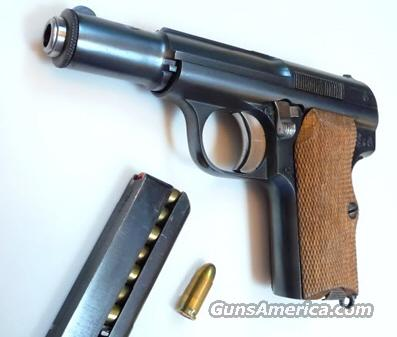gun: (29, 4, 382, 312)
